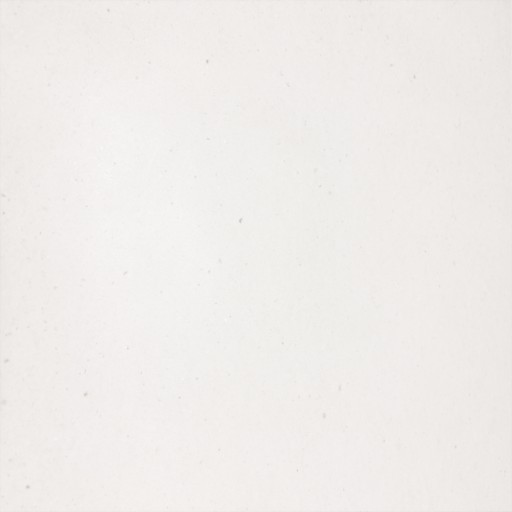lego: (231, 238, 277, 274)
